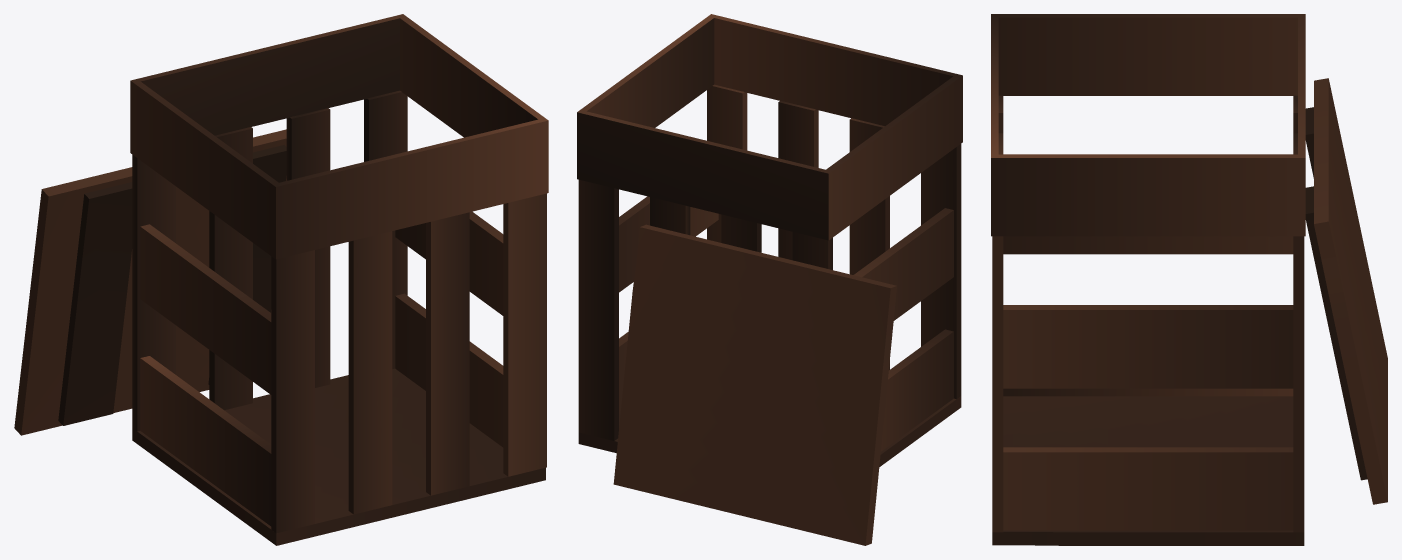
File: Tall Dark Crate Leaned Lid.fbx
The picture shows the model from 3 angles, left to right: view 1: azimuth 30°, elevation 25°; view 2: azimuth 150°, elevation 25°; view 3: azimuth 270°, elevation 25°; orthographic projection. The views are drawn at different scales.
Parts seen in each view (by area): view 1: Tall Dark Crate Leaned Lid; view 2: Tall Dark Crate Leaned Lid; view 3: Tall Dark Crate Leaned Lid.
Boxes of the visible parts, bbox=[...] form: Tall Dark Crate Leaned Lid: bbox=[14, 14, 548, 545]; Tall Dark Crate Leaned Lid: bbox=[577, 14, 962, 545]; Tall Dark Crate Leaned Lid: bbox=[991, 14, 1387, 545].
Size of the model in its own units: 284 by 263 by 290.
Materials: 1 (1 with a texture image).
